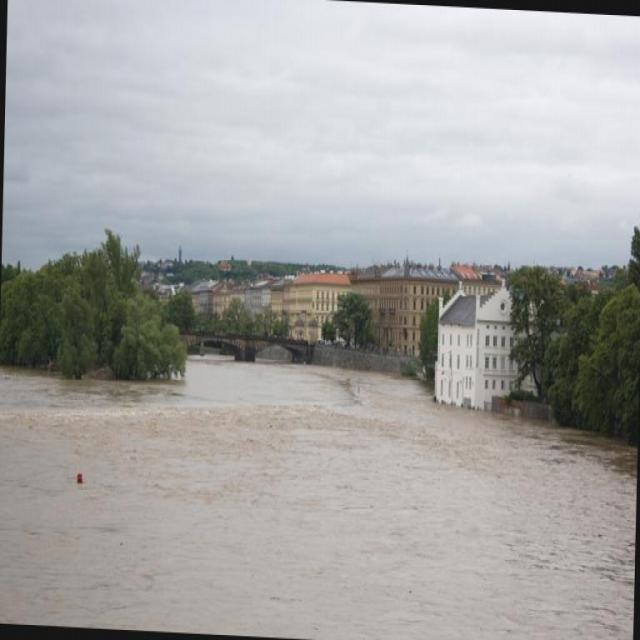flood: (0, 320, 639, 639)
